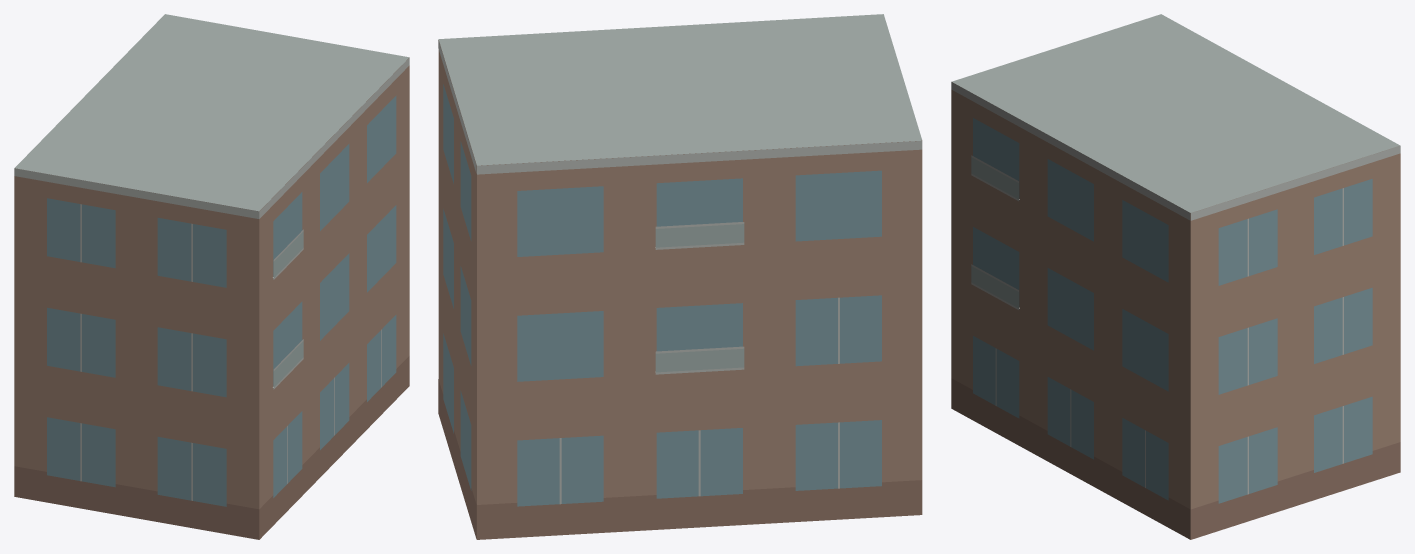
File: survey-upis-32981302.glb
The picture shows the model from 3 angles, left to right: view 1: azimuth 30°, elevation 25°; view 2: azimuth 150°, elevation 25°; view 3: azimuth 270°, elevation 25°; orthographic projection. The views are drawn at different scales.
Visible parts, largest first — view 1: survey-upis-32981302.tmp; view 2: survey-upis-32981302.tmp; view 3: survey-upis-32981302.tmp.
Boxes of the visible parts, box(x1,y1,x2,y2) form: survey-upis-32981302.tmp: box(14, 14, 409, 539); survey-upis-32981302.tmp: box(438, 14, 922, 539); survey-upis-32981302.tmp: box(951, 14, 1400, 539).
Bounding box in the file's own units: 13.33 × 10.2 × 12.71.
